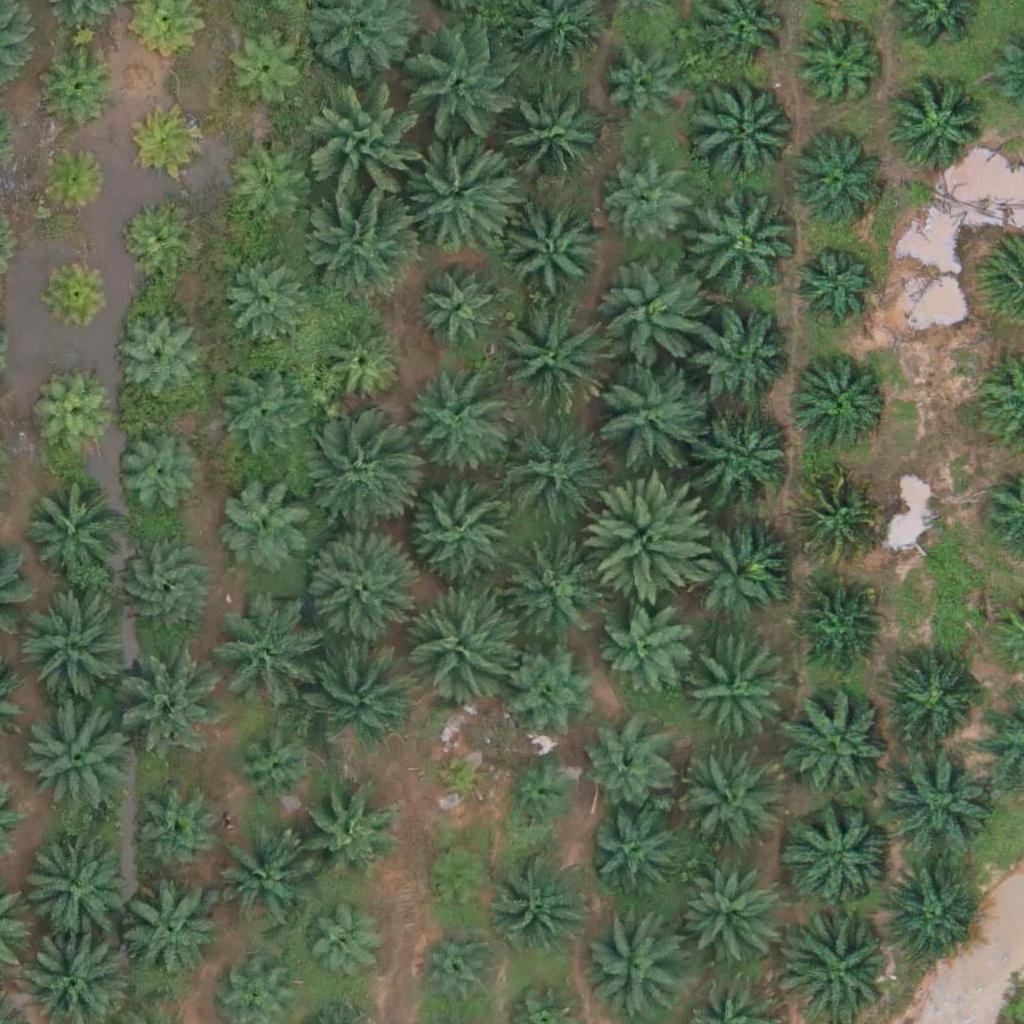Kelapa_Sawit: (589, 477, 714, 603), (591, 355, 704, 469), (15, 698, 128, 812), (492, 84, 605, 198), (880, 743, 993, 856), (781, 687, 894, 800), (785, 798, 898, 911), (493, 303, 606, 416), (497, 415, 610, 528), (404, 470, 517, 583), (301, 531, 414, 644), (12, 829, 125, 942), (685, 186, 798, 299), (409, 30, 522, 143), (308, 188, 421, 301), (598, 261, 711, 374), (301, 633, 413, 747), (18, 594, 130, 708), (691, 71, 803, 185), (314, 92, 426, 206), (784, 910, 896, 1023), (397, 371, 509, 484), (402, 588, 514, 701), (299, 422, 411, 535), (112, 639, 224, 752), (404, 135, 516, 248), (879, 864, 979, 965), (791, 348, 891, 449), (698, 407, 798, 508), (684, 644, 784, 745), (679, 756, 779, 857), (675, 864, 775, 965), (501, 536, 601, 637), (503, 637, 603, 738), (295, 785, 395, 886), (209, 834, 309, 935), (209, 606, 309, 707), (119, 882, 219, 983), (22, 482, 122, 583), (886, 78, 986, 179), (504, 200, 604, 301), (494, 851, 594, 952), (693, 314, 793, 414), (683, 514, 783, 614), (586, 916, 686, 1016), (216, 472, 316, 572), (114, 540, 214, 640), (788, 134, 888, 234), (890, 661, 978, 749), (790, 472, 878, 560), (583, 724, 671, 812), (316, 321, 404, 409), (230, 723, 318, 811), (111, 314, 199, 402), (797, 28, 885, 116), (789, 241, 877, 329), (416, 266, 504, 354), (219, 22, 307, 110), (224, 145, 312, 233), (586, 811, 673, 900), (216, 371, 303, 460), (793, 580, 880, 668), (601, 604, 688, 692), (418, 926, 505, 1014), (113, 430, 200, 518), (135, 792, 222, 880), (602, 55, 689, 143), (607, 160, 694, 248), (223, 254, 310, 342), (118, 200, 193, 276), (301, 909, 376, 985), (502, 757, 577, 833), (421, 844, 496, 920), (35, 380, 110, 456), (40, 253, 115, 329), (133, 104, 208, 180), (43, 46, 118, 121), (35, 143, 110, 218), (428, 745, 490, 808)
